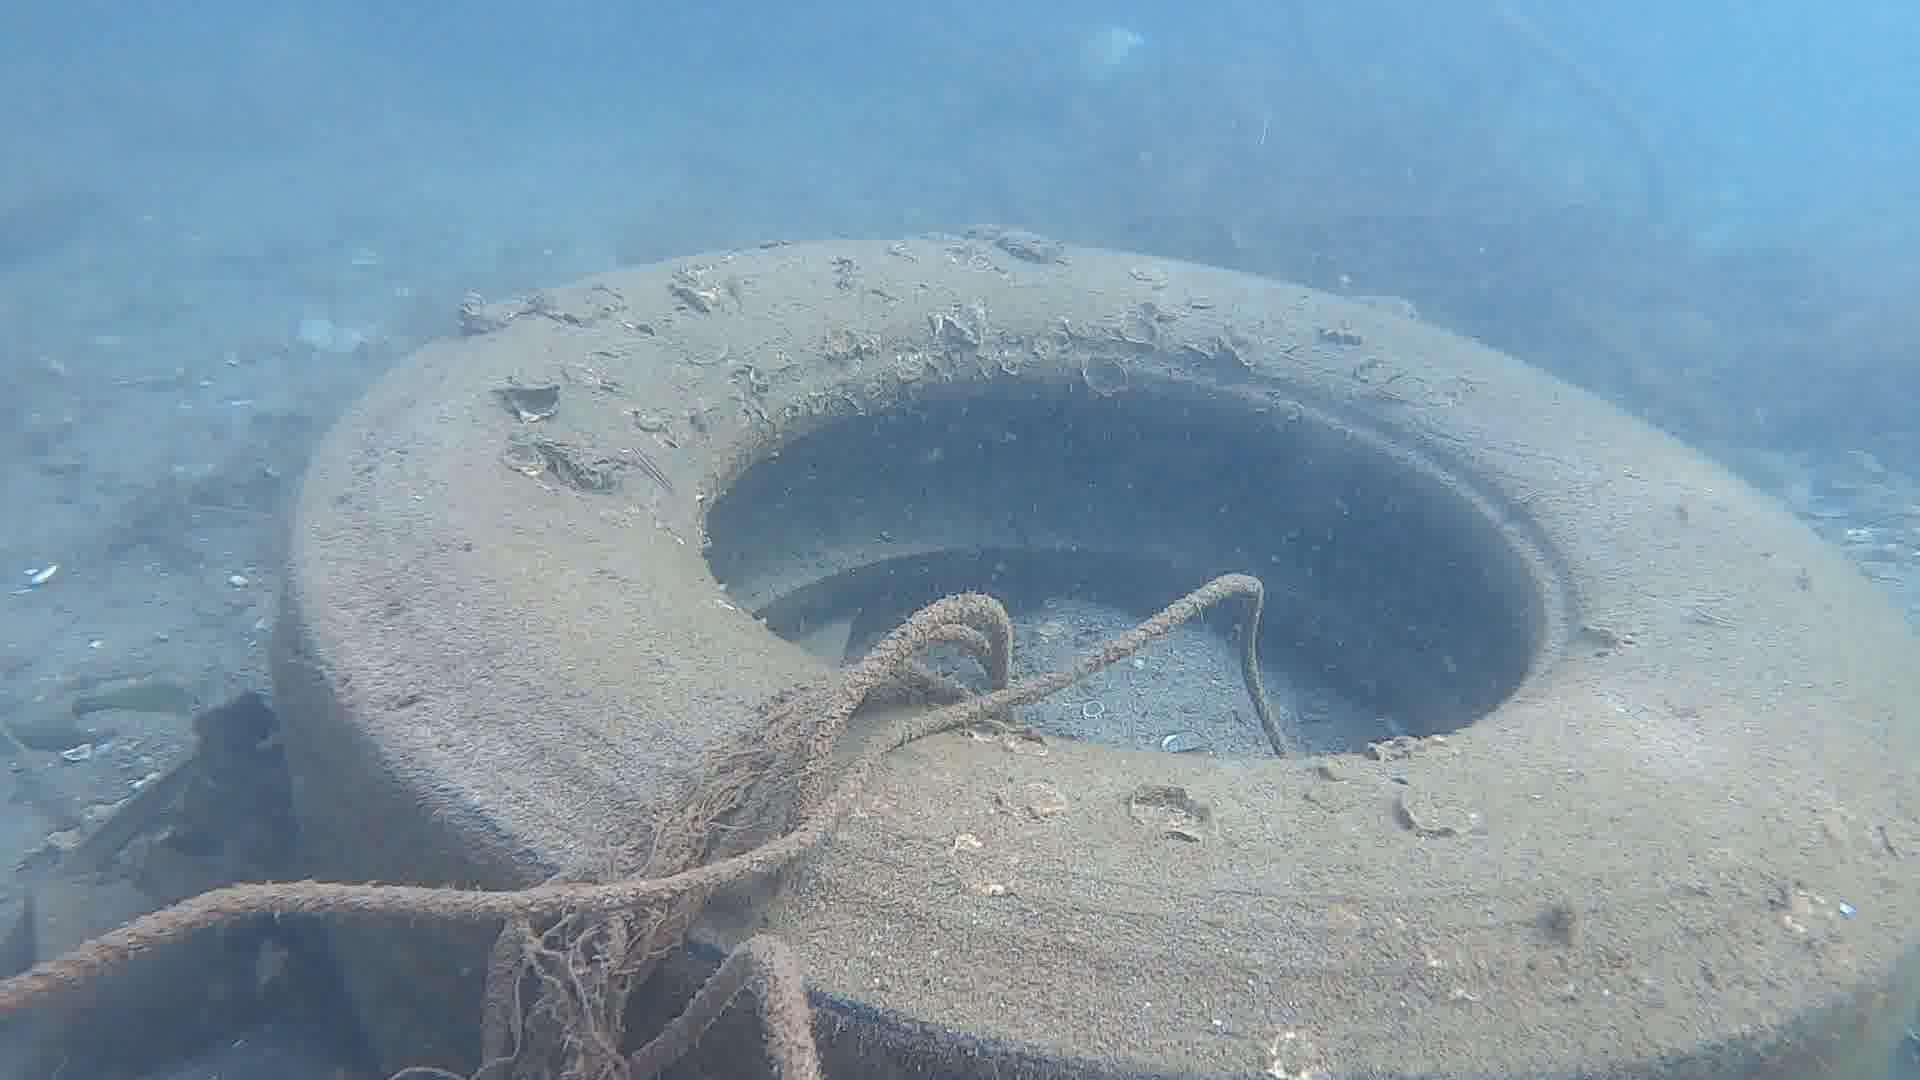bundle of ropes: (0, 570, 1287, 1080)
tire: (282, 233, 1920, 1080)
